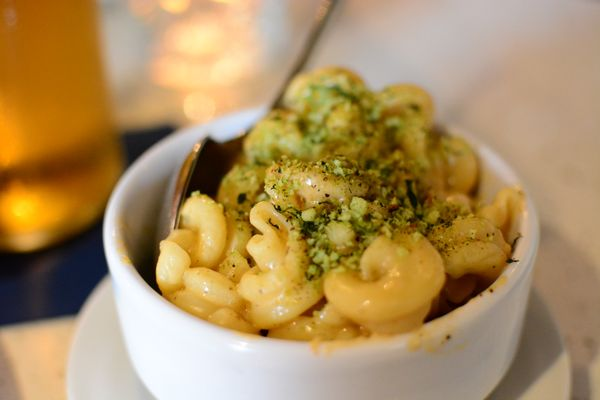sushi: (100, 10, 547, 393)
